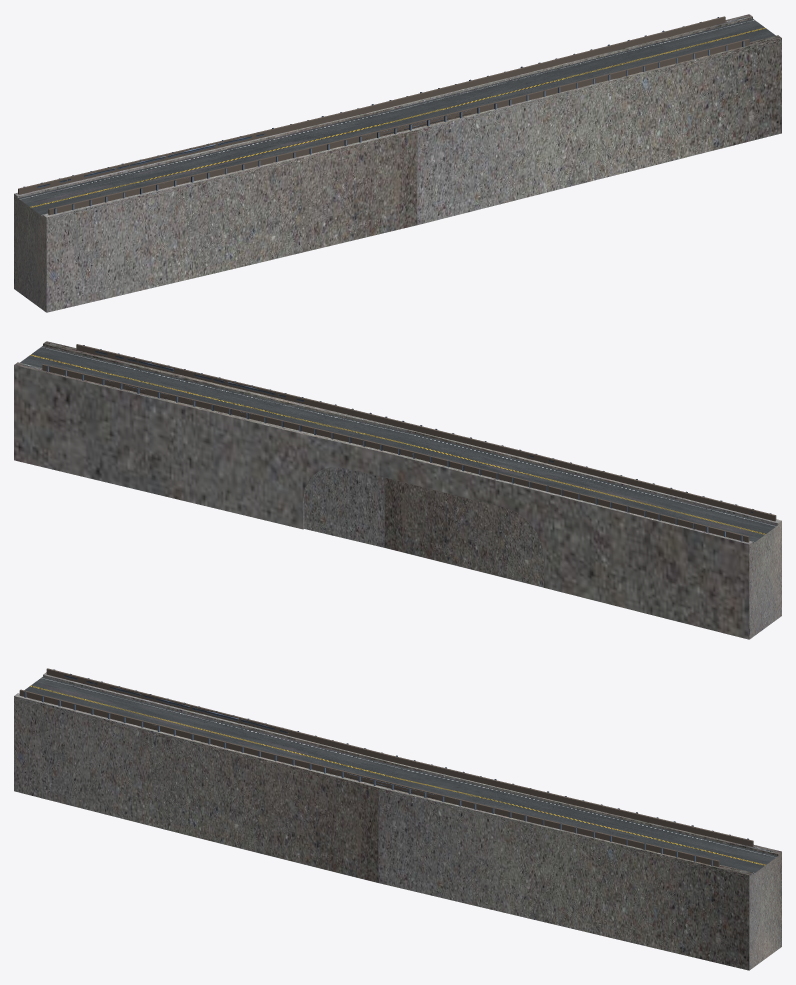
File: bridge-exra-long.fbx
The picture shows the model from 3 angles, top to bottom: view 1: azimuth 30°, elevation 25°; view 2: azimuth 150°, elevation 25°; view 3: azimuth 330°, elevation 25°; orthographic projection.
Parts seen in each view (by area): view 1: Plane.051, Plane.001; view 2: Plane.001, Plane.051; view 3: Plane.051, Plane.001.
Part boxes in pixels (x1,y1,x2,y2): Plane.051: (16,14,781,312); Plane.001: (14,14,781,312); Plane.001: (14,341,781,639); Plane.051: (15,341,779,587); Plane.051: (14,668,780,970); Plane.001: (14,669,781,970).
Size of the model in its own units: 16928 by 2224 by 1419.
